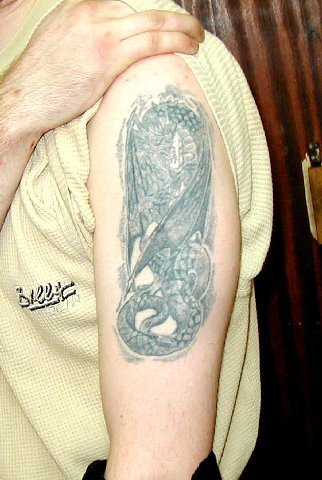tatu6_drakon: (111, 80, 231, 366)
